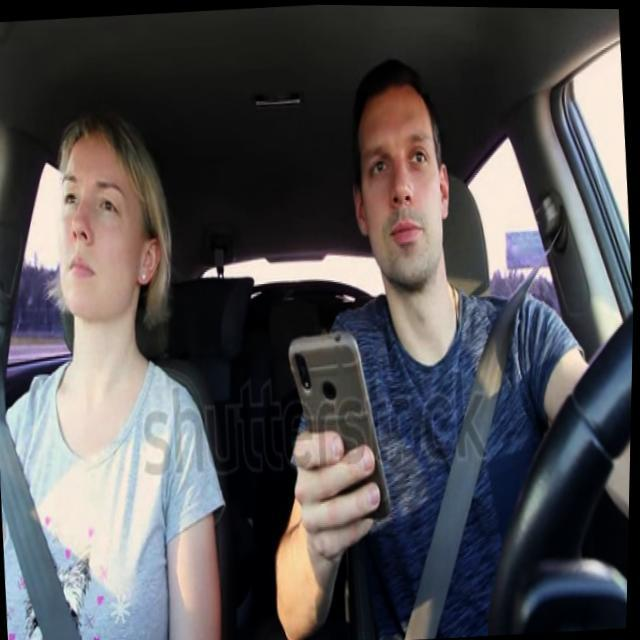PhoneCall: (284, 326, 398, 526)
